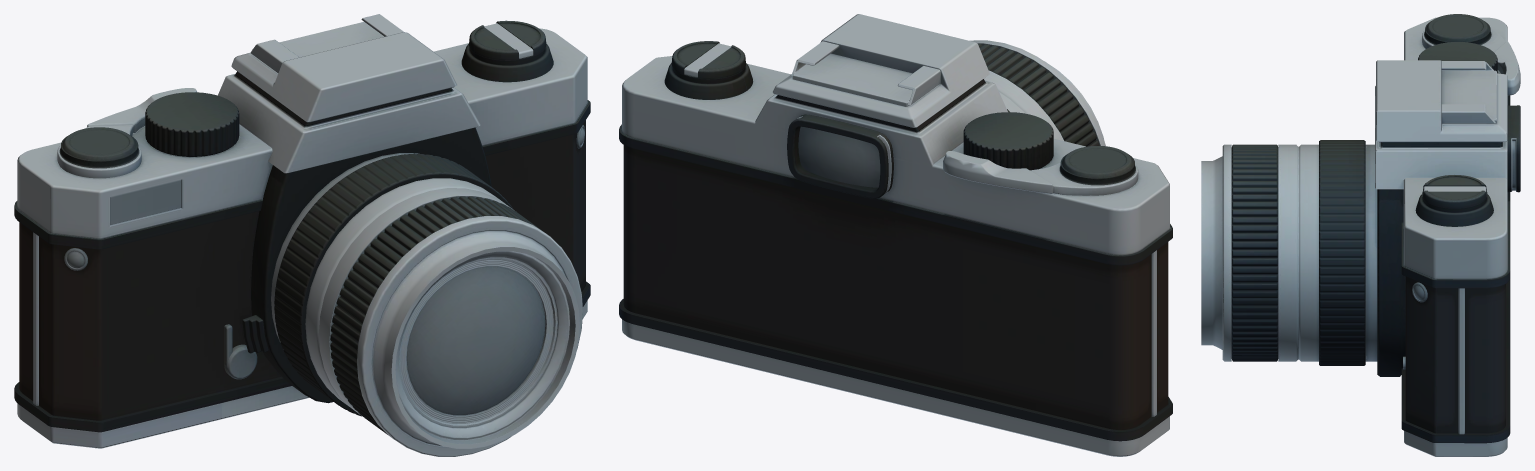
Rendered from fab4.glb.
The picture shows the model from 3 angles, left to right: view 1: azimuth 30°, elevation 25°; view 2: azimuth 150°, elevation 25°; view 3: azimuth 270°, elevation 25°; orthographic projection. The views are drawn at different scales.
Visible parts, largest first — view 1: node_id157; view 2: node_id157; view 3: node_id157.
Boxes of the visible parts, <box> form: node_id157: <box>14,14,590,456</box>; node_id157: <box>619,14,1172,456</box>; node_id157: <box>1201,14,1520,456</box>.
Bounding box in the file's own units: 0.512 × 0.2912 × 0.3084.
Materials: 1 (1 with a texture image).
